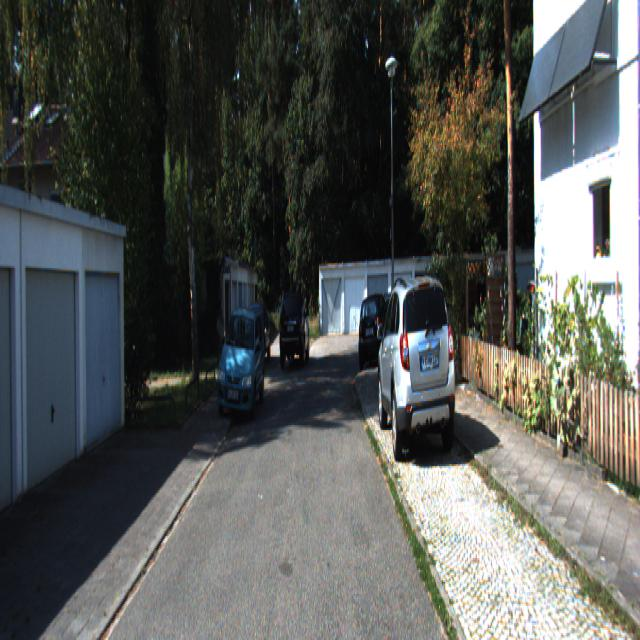Car: (376, 271, 457, 466), (218, 305, 264, 419), (358, 290, 391, 364), (280, 286, 310, 361)
